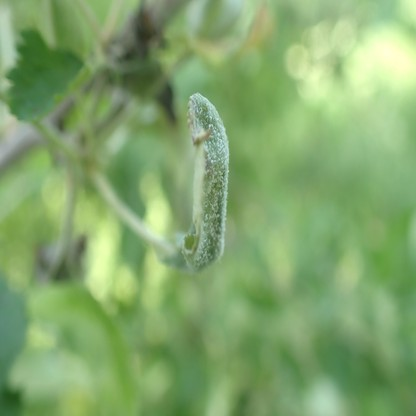powdery_mildew: (181, 93, 228, 272)
